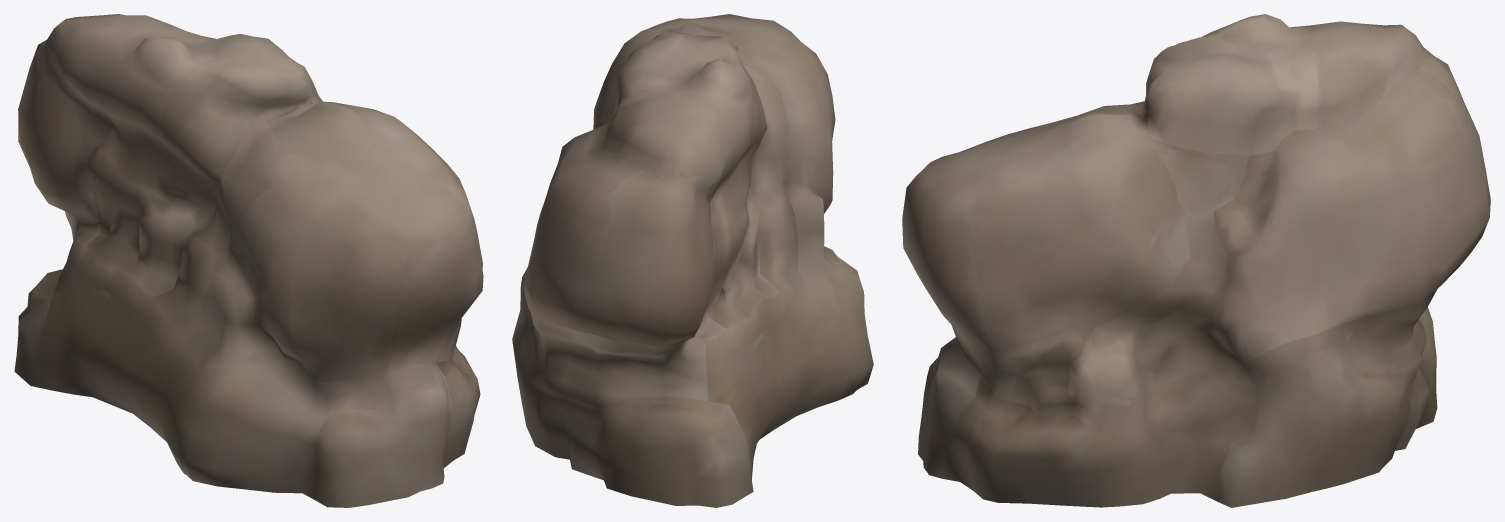
3 views of the same model, side by side, from view 1: azimuth 30°, elevation 25°; view 2: azimuth 150°, elevation 25°; view 3: azimuth 270°, elevation 25° (orthographic). The views are drawn at different scales.
Visible parts, largest first — view 1: body0_model0_lod0_mesh0; view 2: body0_model0_lod0_mesh0; view 3: body0_model0_lod0_mesh0.
Boxes of the visible parts, x1,y1,x2,y2 form: body0_model0_lod0_mesh0: [14, 14, 483, 507]; body0_model0_lod0_mesh0: [512, 14, 873, 507]; body0_model0_lod0_mesh0: [902, 14, 1490, 507].
Size of the model in its own units: 212 by 255 by 345.
Materials: 1 (1 with a texture image).
